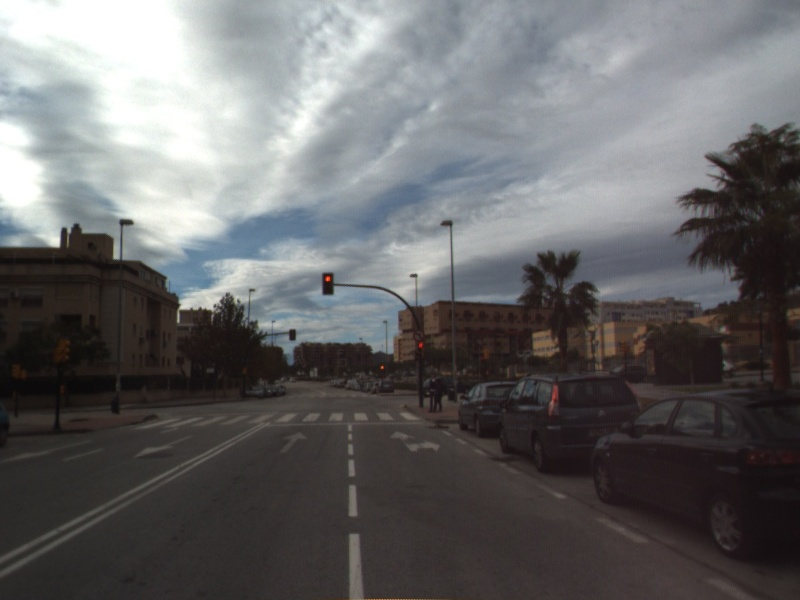STRAIGHT: (278, 430, 310, 455)
STRAIGHT_RIGHT: (388, 429, 442, 454)
